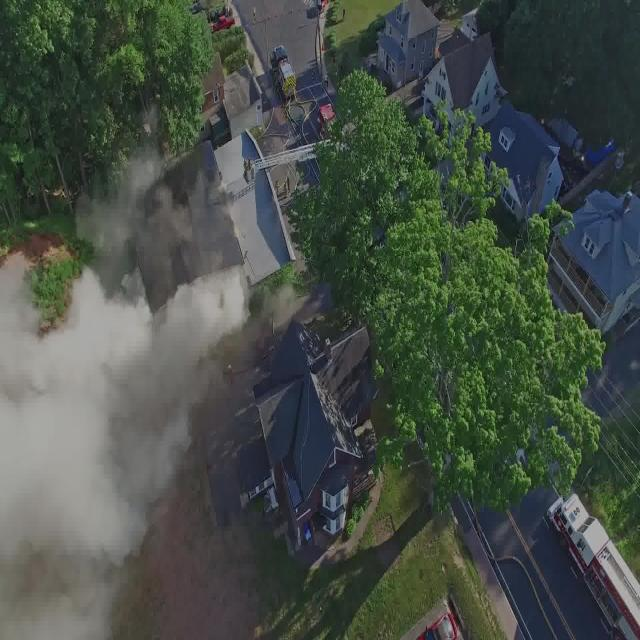Smoke: (0, 243, 249, 640)
